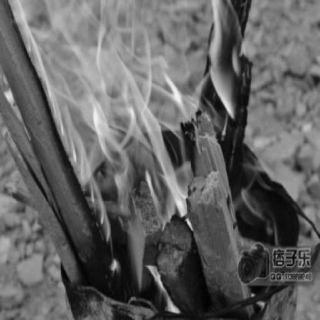Fire: (6, 0, 288, 274), (145, 256, 179, 314), (0, 73, 14, 101), (252, 289, 270, 310)
